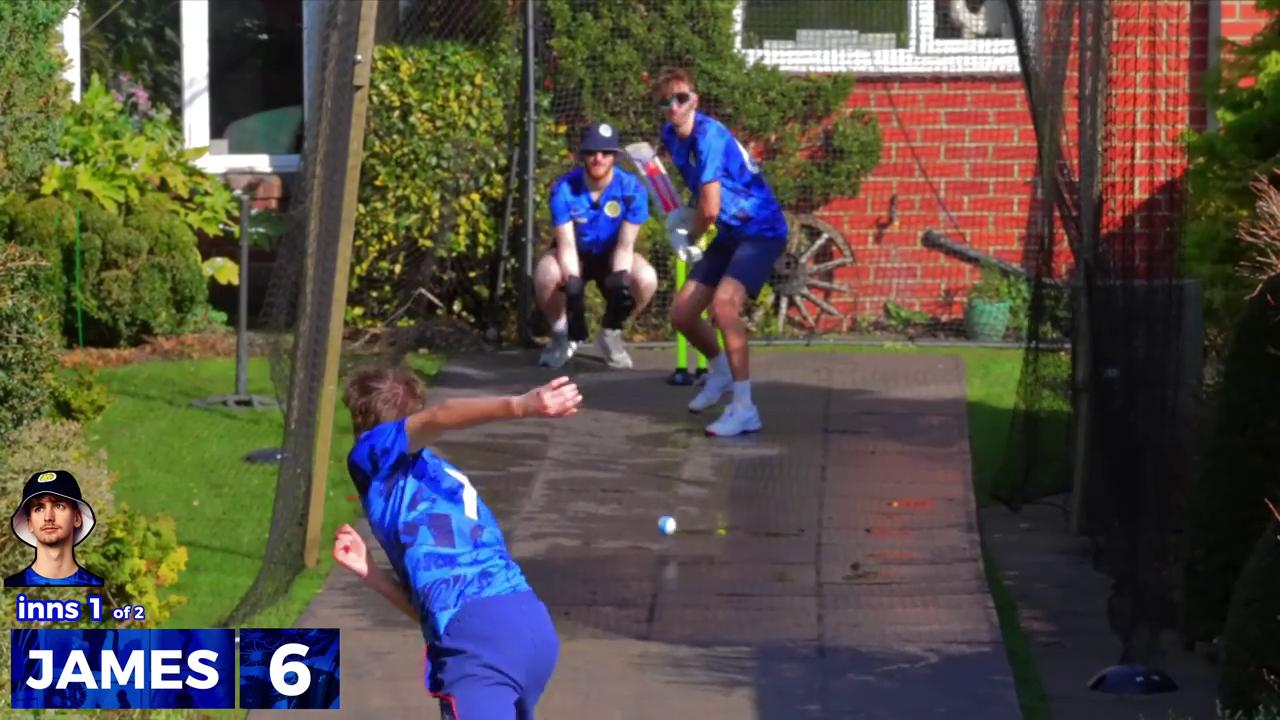ball: (643, 502, 688, 555)
